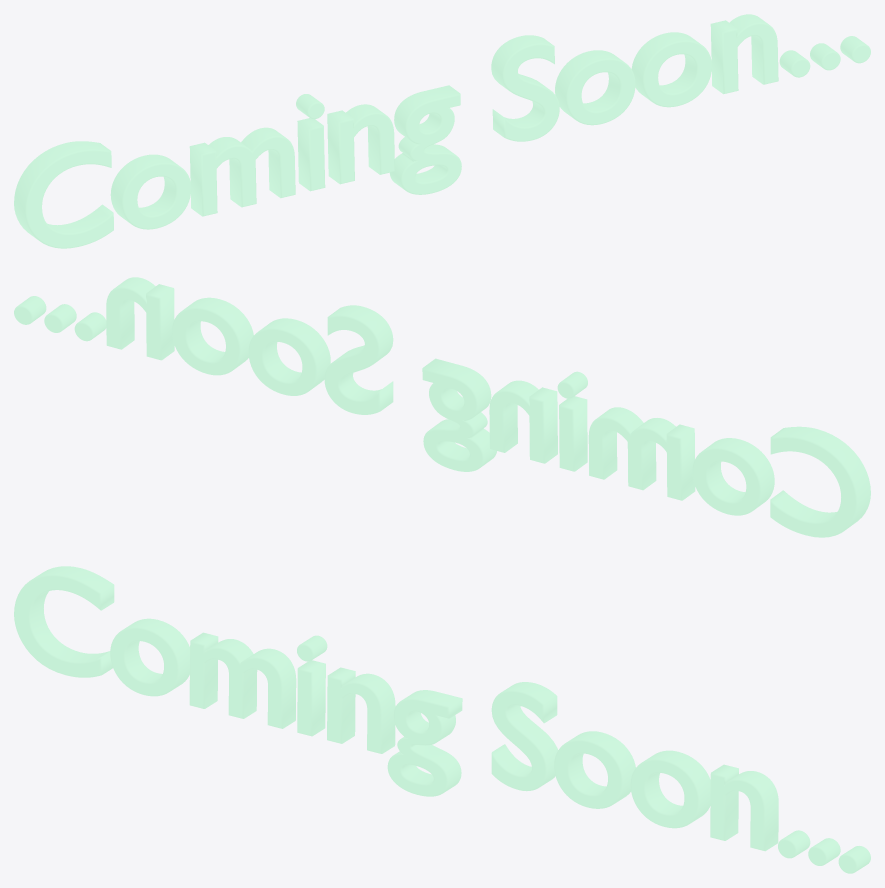
File: blender_asset_coming_soon.gltf
3 renders of one model, top to bottom at view 1: azimuth 30°, elevation 25°; view 2: azimuth 150°, elevation 25°; view 3: azimuth 330°, elevation 25°, orthographic. The views are drawn at different scales.
Visible parts, largest first — view 1: Text; view 2: Text; view 3: Text.
Boxes of the visible parts, x1,y1,x2,y2 form: Text: (14,14,870,248); Text: (14,277,870,537); Text: (14,566,870,873).
Size of the model in its own units: 6.62 by 0.9513 by 0.394.
